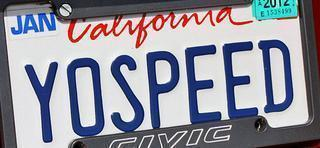placa de veiculo: (2, 4, 314, 144)
